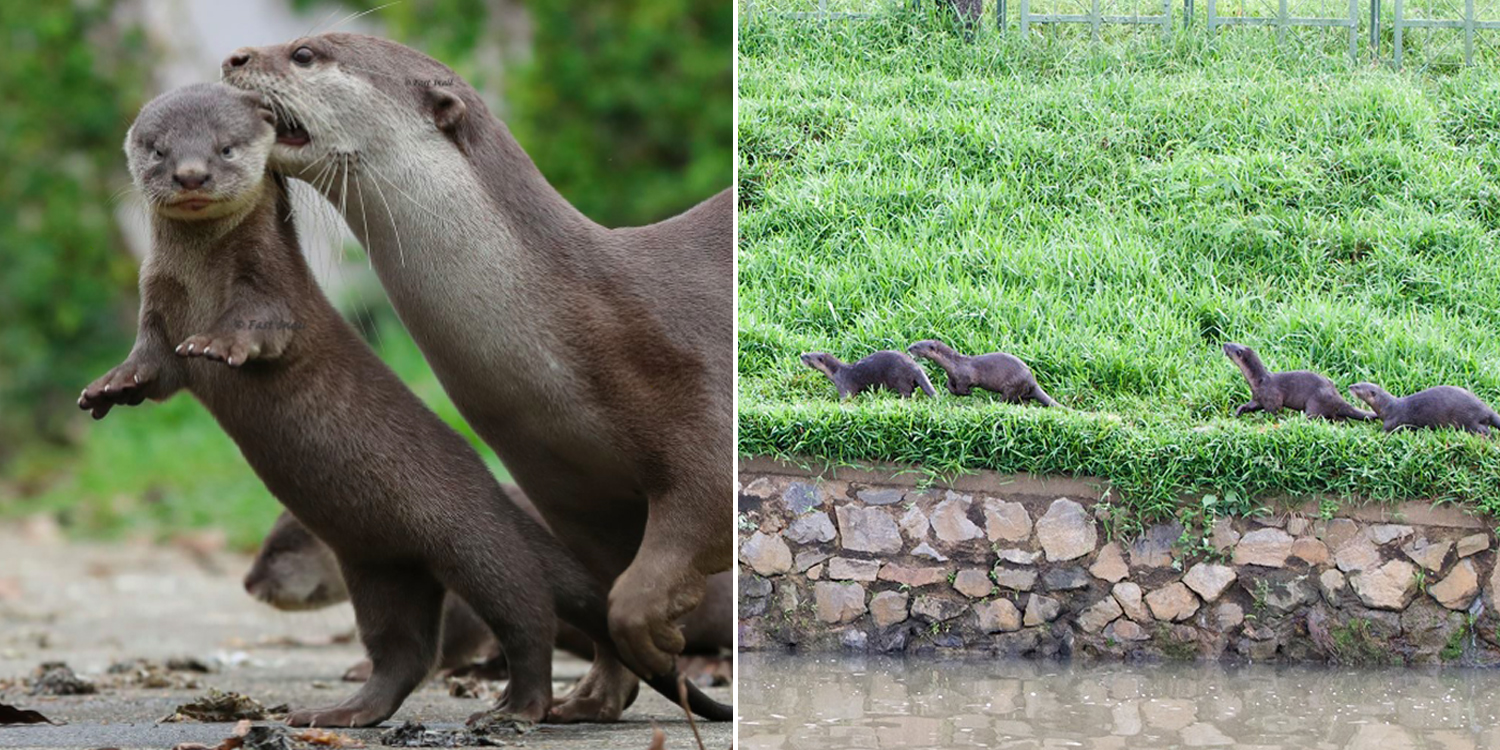otter: (213, 21, 737, 728), (84, 74, 558, 741), (1211, 328, 1382, 442)
